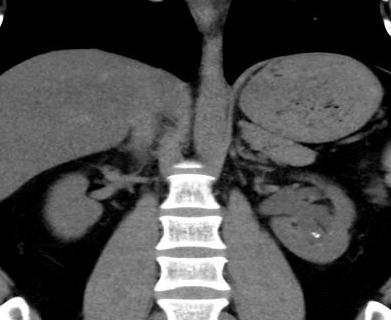Tas_Var: (315, 233, 320, 239), (312, 230, 316, 236)
